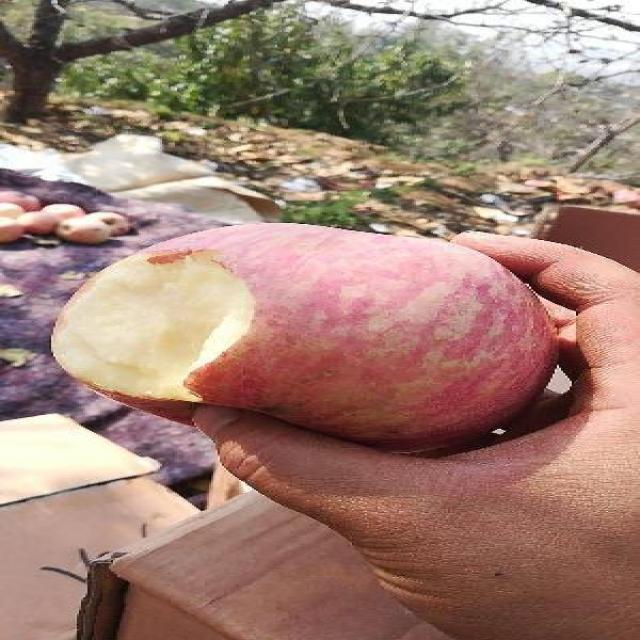Rotten: (57, 217, 565, 443)
